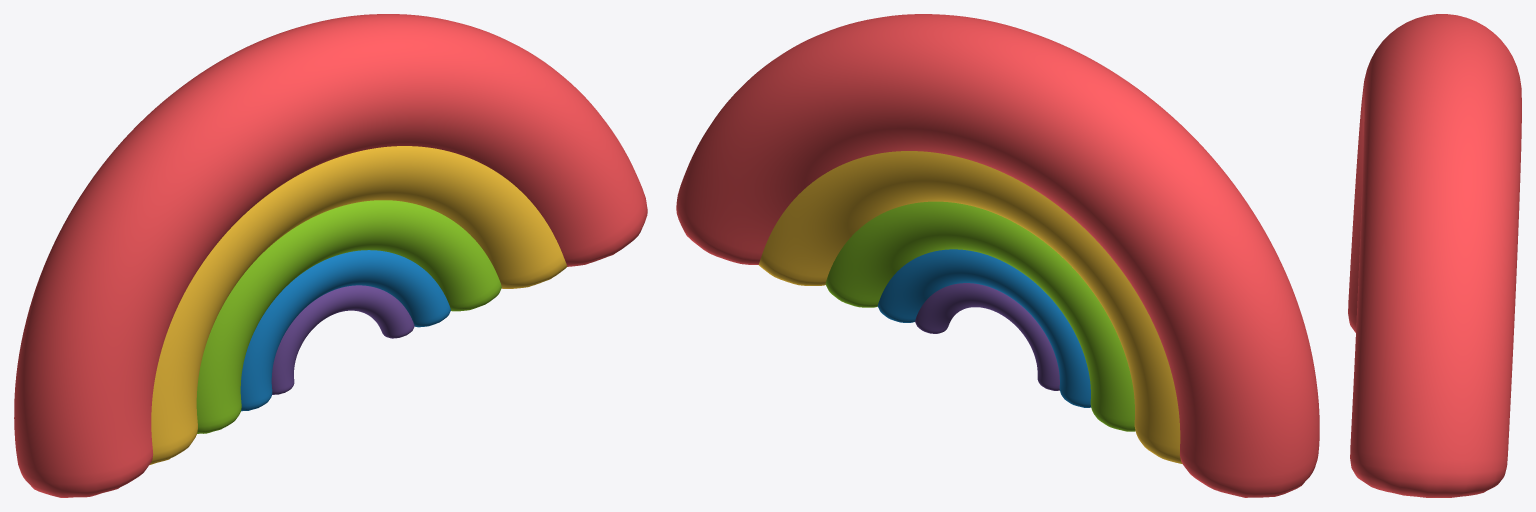
Rendered from rainbow.gltf.
3 views of the same model, side by side, from view 1: azimuth 30°, elevation 25°; view 2: azimuth 150°, elevation 25°; view 3: azimuth 270°, elevation 25° (orthographic). The views are drawn at different scales.
Visible parts, largest first — view 1: Torus.003, Torus.001, Torus, Torus.002, Torus.004; view 2: Torus.003, Torus.001, Torus, Torus.002, Torus.004; view 3: Torus.003.
Part boxes in pixels (x1,y1,x2,y2): Torus.003: (14,14,647,497); Torus.001: (149,146,567,464); Torus: (196,200,501,433); Torus.002: (240,250,450,411); Torus.004: (271,285,414,394); Torus.003: (676,14,1319,497); Torus.001: (759,151,1182,463); Torus: (825,201,1135,431); Torus.002: (877,249,1091,407); Torus.004: (915,283,1059,390); Torus.003: (1348,14,1521,497).
Bounding box in the file's own units: 2.58 × 1.55 × 0.563.
